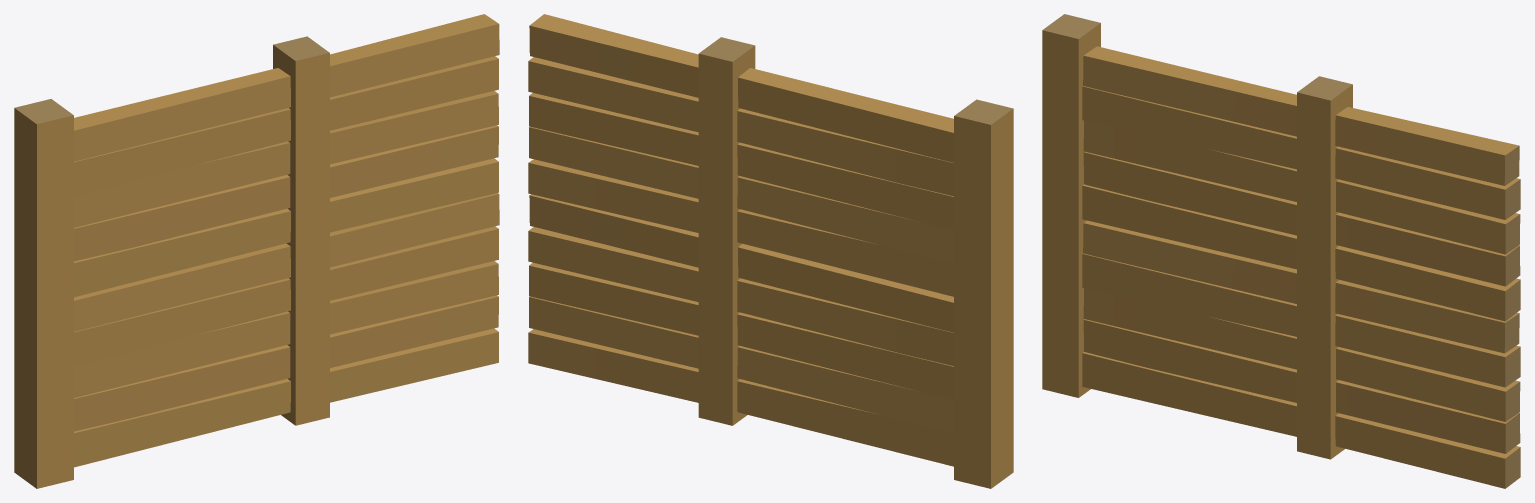
File: WoodenFence.gltf
3 views of the same model, side by side, from view 1: azimuth 30°, elevation 25°; view 2: azimuth 150°, elevation 25°; view 3: azimuth 330°, elevation 25° (orthographic).
Parts seen in each view (by area): view 1: Wall_FirstAge.001; view 2: Wall_FirstAge.001; view 3: Wall_FirstAge.001.
Part boxes in pixels (left/top/right/bottom): Wall_FirstAge.001: left=14, top=14, right=499, bottom=488; Wall_FirstAge.001: left=528, top=14, right=1013, bottom=488; Wall_FirstAge.001: left=1042, top=14, right=1520, bottom=488.
Bounding box in the file's own units: 0.7039 × 0.526 × 0.0589.
